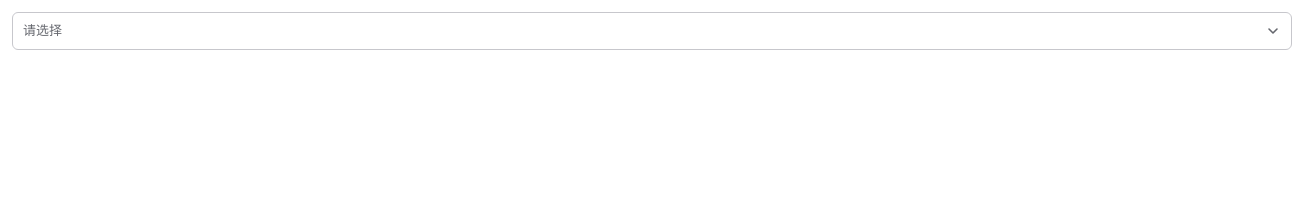
Test: keeps multi selections open, supports toggling and keyboard selection
Click the dropdown named "多模型" at coordinates (43, 30), box x1=12 y1=12 x2=1292 y2=50
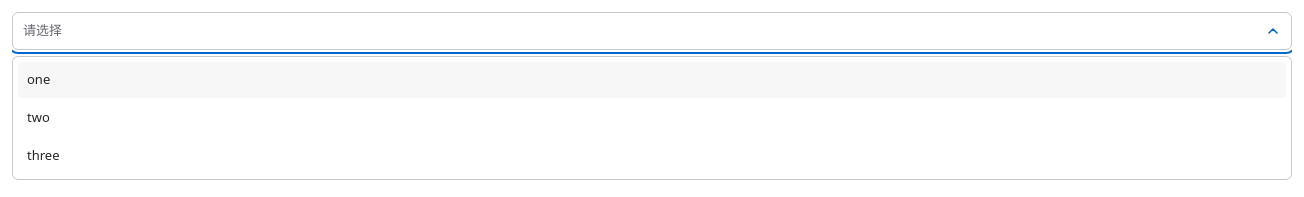
Click the option "one" at coordinates (39, 79), box x1=18 y1=62 x2=1286 y2=98
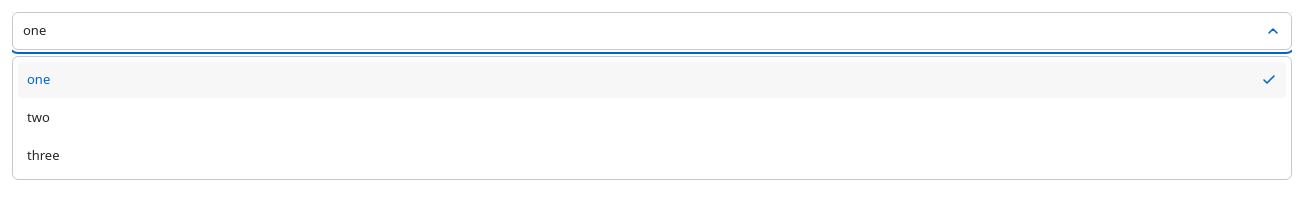
Click the option "two" at coordinates (38, 117), box x1=18 y1=100 x2=1286 y2=136
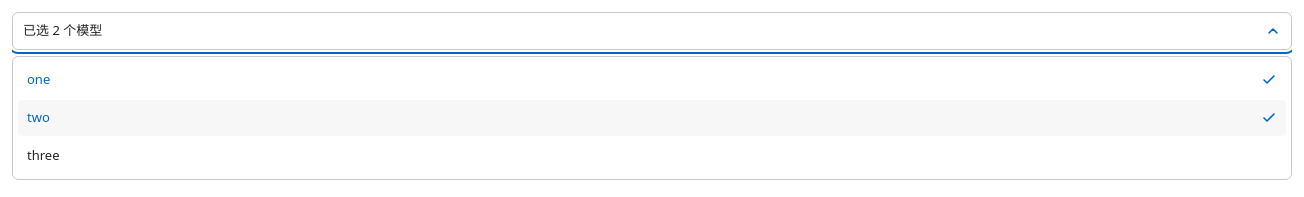
Expected: the dropdown named "多模型" reads "已选 2 个模型", x1=12 y1=12 x2=1292 y2=50
Click the option "one" at coordinates (39, 79), box x1=18 y1=62 x2=1286 y2=98
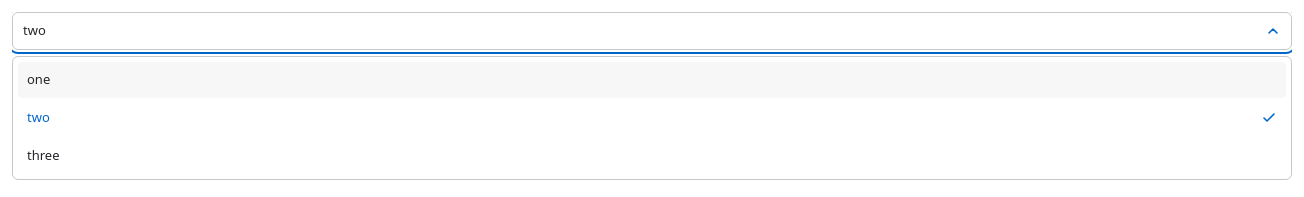
Expected: the dropdown named "多模型" reads "two", x1=12 y1=12 x2=1292 y2=50
Press Escape
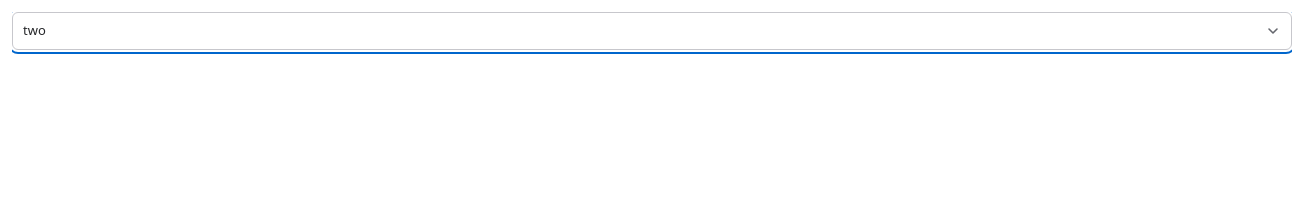
Expected: the list is gone
Press Arrowdown Arrowdown Enter
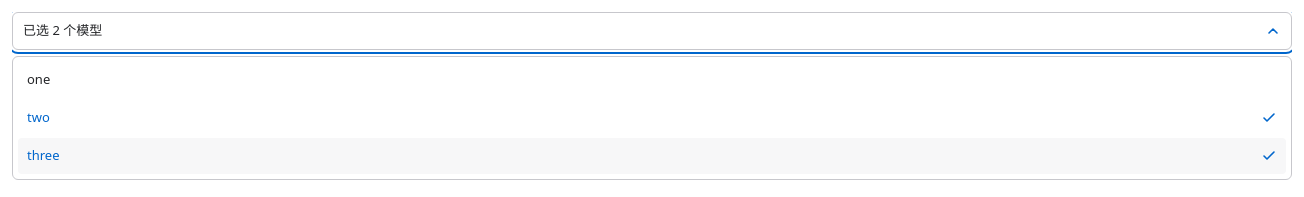
Expected: the option "three" is selected, x1=18 y1=138 x2=1286 y2=174
